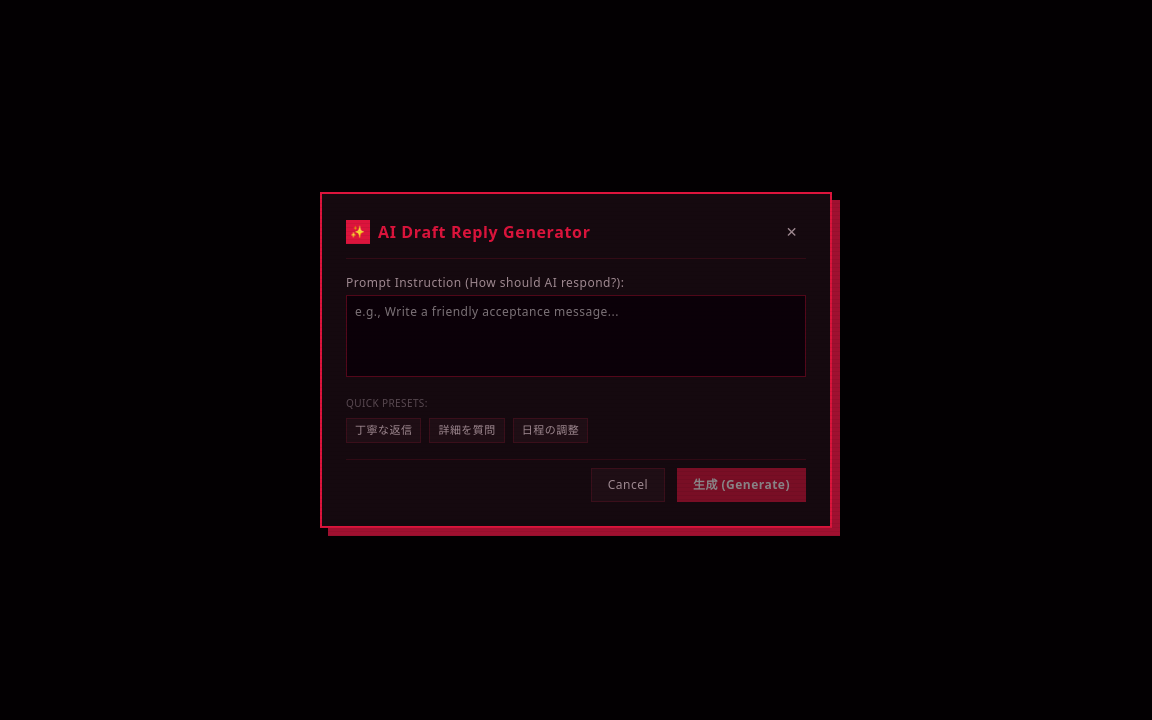
it: AIDraftModal Component › Tier 1: Feature Coverage › displays CyberLoader loading state during AI draft generation
In the text box with test id "ai-draft-prompt-textarea": (576, 336) x1=346 y1=295 x2=806 y2=377, type "Accept proposal"
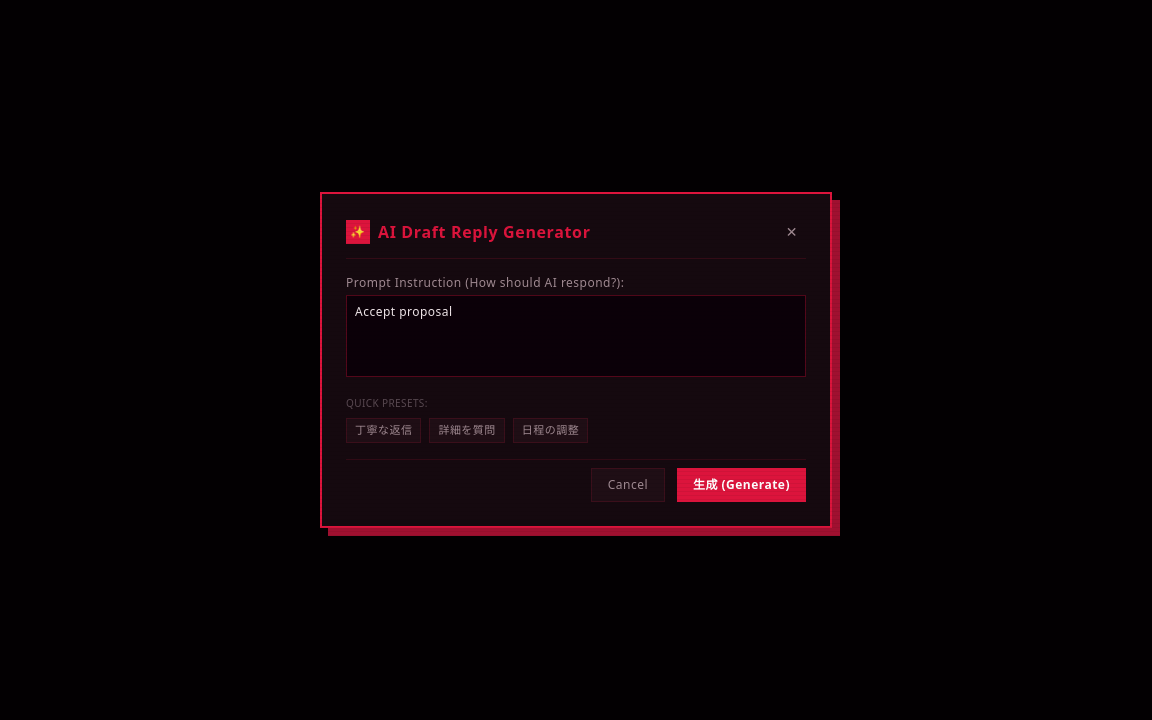
Click the button with test id "ai-draft-generate-button": (742, 485) x1=677 y1=468 x2=806 y2=502
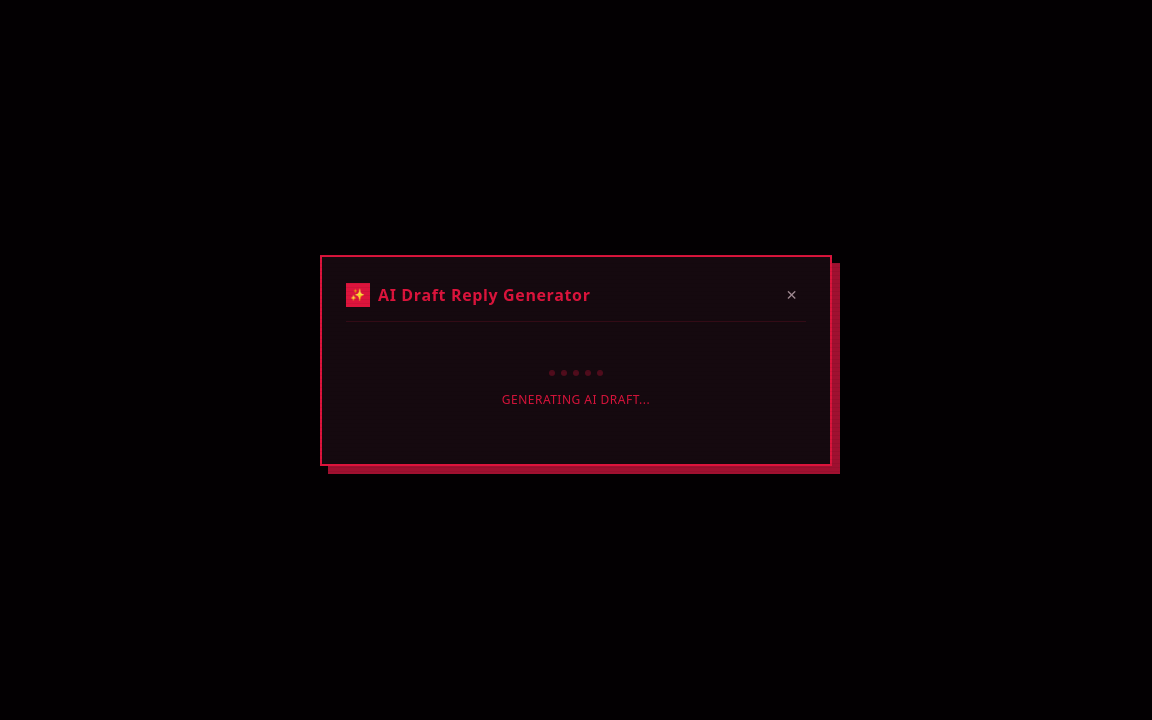
Expected: the element with test id "ai-draft-loading" is shown, x1=502 y1=370 x2=650 y2=408
Expected: the text "GENERATING AI DRAFT..." is shown, x1=502 y1=392 x2=650 y2=408
